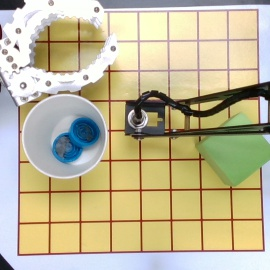cup_blue: (21, 94, 107, 181)
